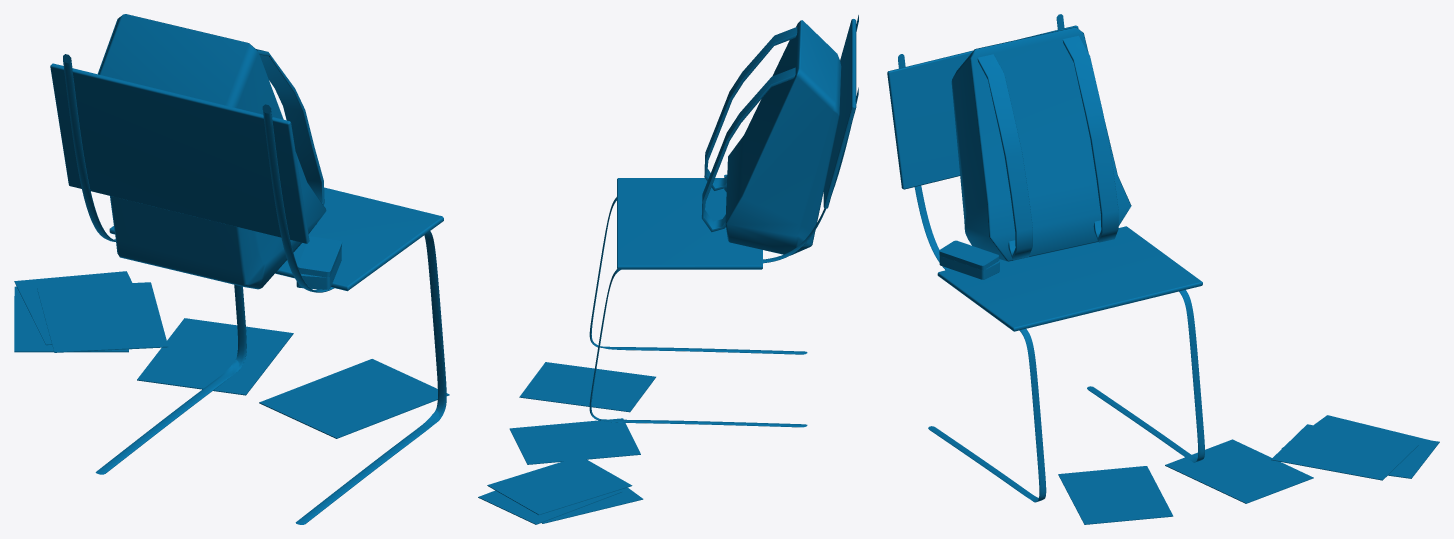
File: UV Set 10 (Chair,Bag...).fbx
3 renders of one model, left to right at view 1: azimuth 30°, elevation 25°; view 2: azimuth 150°, elevation 25°; view 3: azimuth 270°, elevation 25°, orthographic. The views are drawn at different scales.
Visible parts, largest first — view 1: pCube12, pCube15, pPlane3, pPlane5, pCube14, pPlane4, Cable_00, Cable_01, pCube36, pPlane2, pPlane1, Lid (+1 smaller); view 2: pCube15, pCube14, pPlane3, pPlane5, pPlane4, pCube12, Cable_01, pCube19, pCube36, pPlane2, Cable_00, pPlane1; view 3: pCube15, pCube14, pCube12, pPlane3, pPlane5, pPlane4, pCube19, pCube36, Cable_00, Cable_01, pPlane2, Lid (+2 smaller).
Part boxes in pixels (x1,y1,x2,y2): pCube12: (50, 63, 309, 243); pCube15: (97, 14, 326, 289); pPlane3: (37, 282, 168, 352); pPlane5: (259, 359, 449, 438); pCube14: (109, 187, 443, 291); pPlane4: (137, 318, 293, 395); Cable_00: (262, 104, 446, 524); Cable_01: (63, 54, 246, 474); pCube36: (256, 49, 324, 224); pPlane2: (14, 271, 132, 345); pPlane1: (14, 286, 128, 352); Lid: (297, 236, 342, 277); pCube15: (725, 20, 841, 255); pCube14: (617, 178, 762, 269); pPlane3: (487, 456, 632, 514); pPlane5: (519, 362, 655, 412); pPlane4: (509, 418, 640, 464); pCube12: (823, 19, 856, 208); Cable_01: (589, 87, 858, 427); pCube19: (701, 67, 795, 232); pCube36: (704, 27, 797, 191); pPlane2: (478, 490, 622, 524); Cable_00: (589, 15, 858, 354); pPlane1: (542, 487, 643, 523); pCube15: (951, 27, 1131, 261); pCube14: (937, 226, 1202, 331); pCube12: (887, 25, 1078, 189); pPlane3: (1271, 424, 1418, 480); pPlane5: (1058, 466, 1173, 524); pPlane4: (1165, 439, 1313, 503); pCube19: (1062, 35, 1118, 242); pCube36: (977, 54, 1032, 259); Cable_00: (898, 54, 1046, 502); Cable_01: (1056, 14, 1204, 462); pPlane2: (1323, 425, 1439, 478); Lid: (939, 240, 999, 269).
Size of the model in its own units: 122 by 135 by 182.
